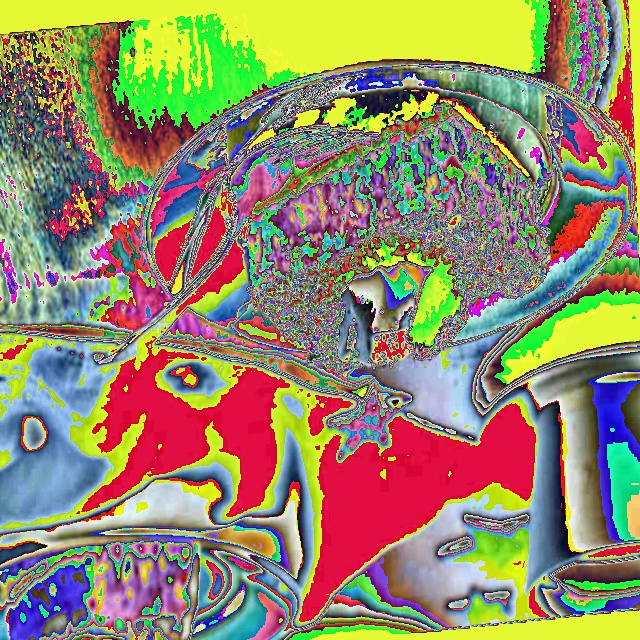background: (91, 54, 639, 596), (6, 92, 199, 639), (245, 101, 552, 381)
